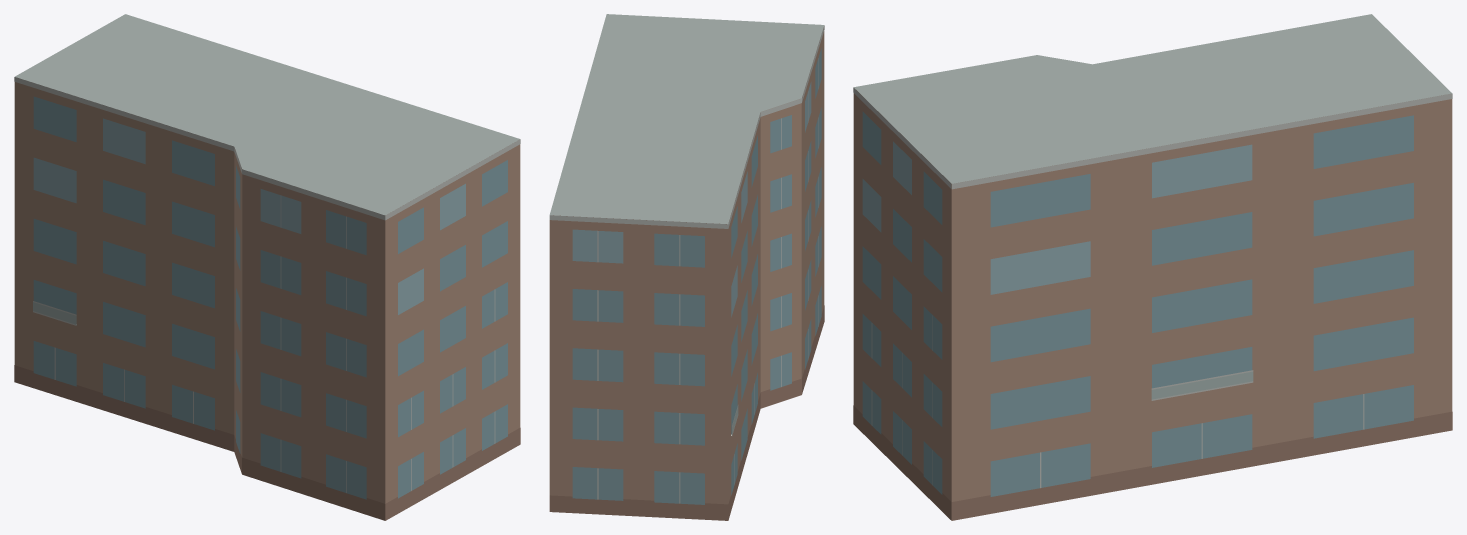
File: survey-upis-32681239.glb
3 renders of one model, left to right at view 1: azimuth 30°, elevation 25°; view 2: azimuth 150°, elevation 25°; view 3: azimuth 270°, elevation 25°, orthographic. The views are drawn at different scales.
Visible parts, largest first — view 1: survey-upis-32681239.tmp; view 2: survey-upis-32681239.tmp; view 3: survey-upis-32681239.tmp.
Part boxes in pixels (bbox=[...]): survey-upis-32681239.tmp: bbox=[14, 14, 520, 520]; survey-upis-32681239.tmp: bbox=[549, 14, 824, 520]; survey-upis-32681239.tmp: bbox=[853, 14, 1452, 520].
Bounding box in the file's own units: 16.23 × 15 × 24.17.
